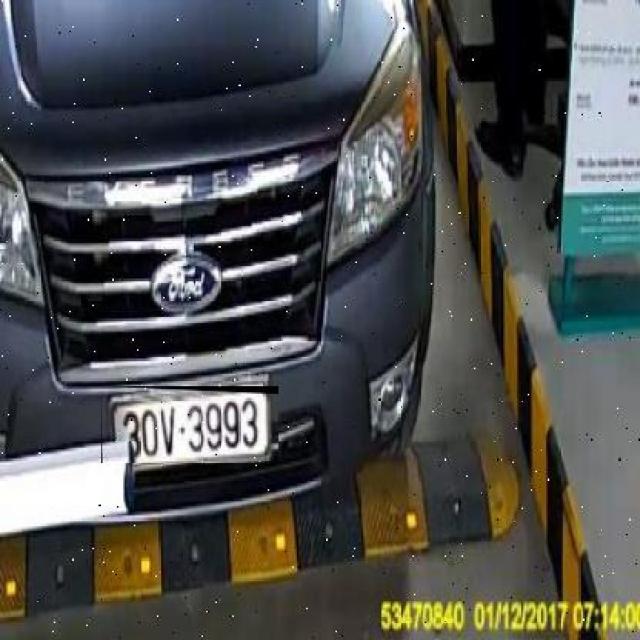number_plate: (100, 386, 278, 463)
